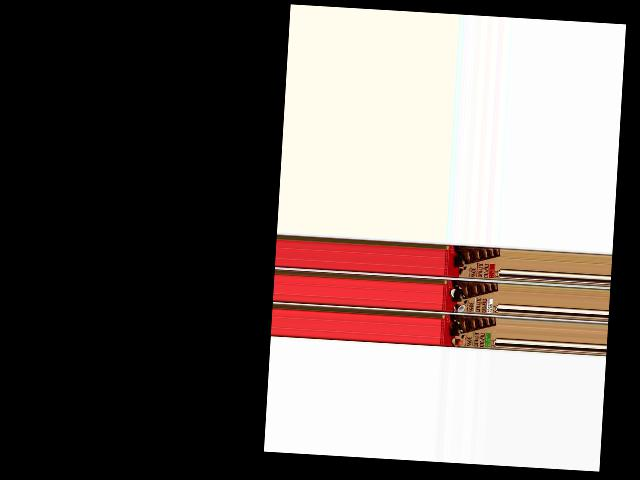chocolate: (439, 314, 496, 351)
